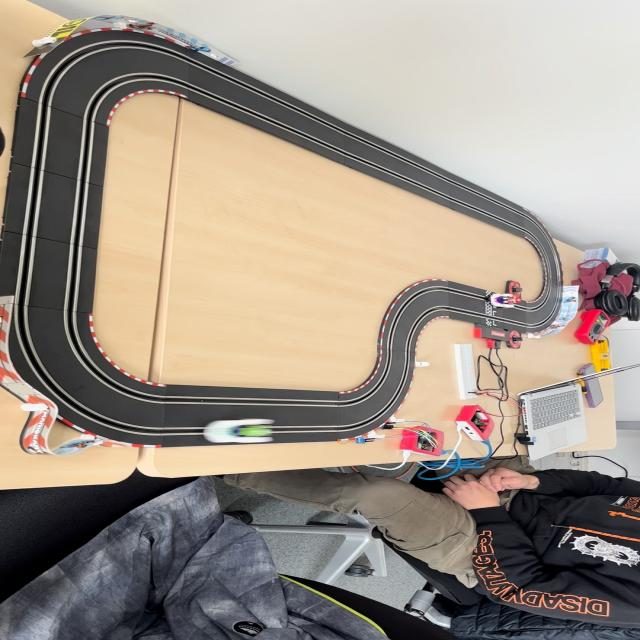mario: (489, 292, 522, 310)
yoshi: (197, 414, 286, 449)
